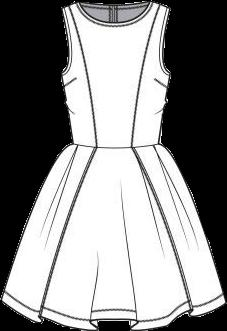Bodice: (61, 1, 170, 148)
Hemline: (0, 297, 226, 330)
Neckline: (76, 1, 153, 25)
Skirt: (1, 143, 224, 330)
Waistline: (70, 138, 161, 150)
